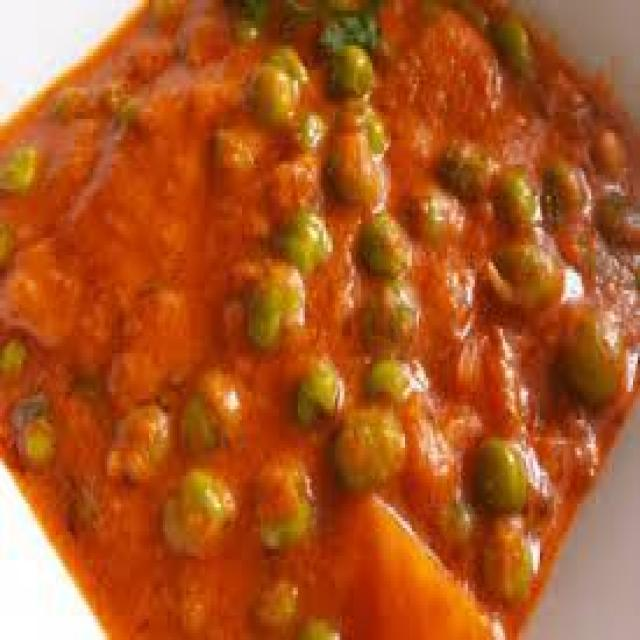aloo_matar: (4, 10, 640, 633)
